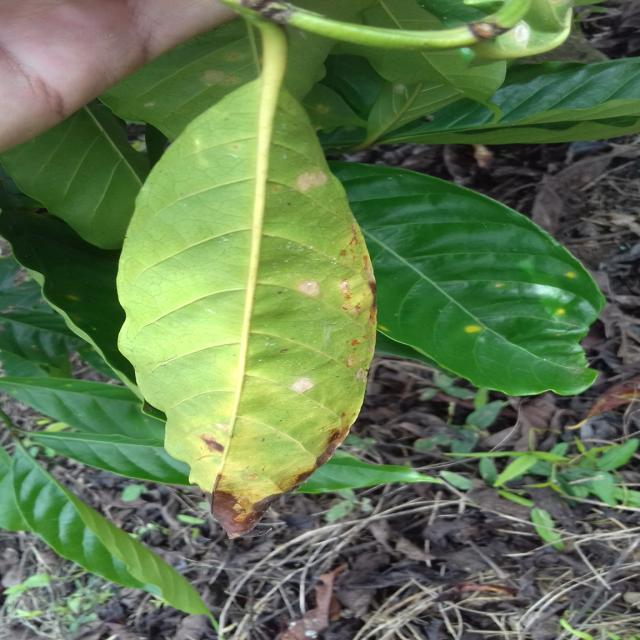Enfermedad-Roya: (117, 8, 376, 535)
